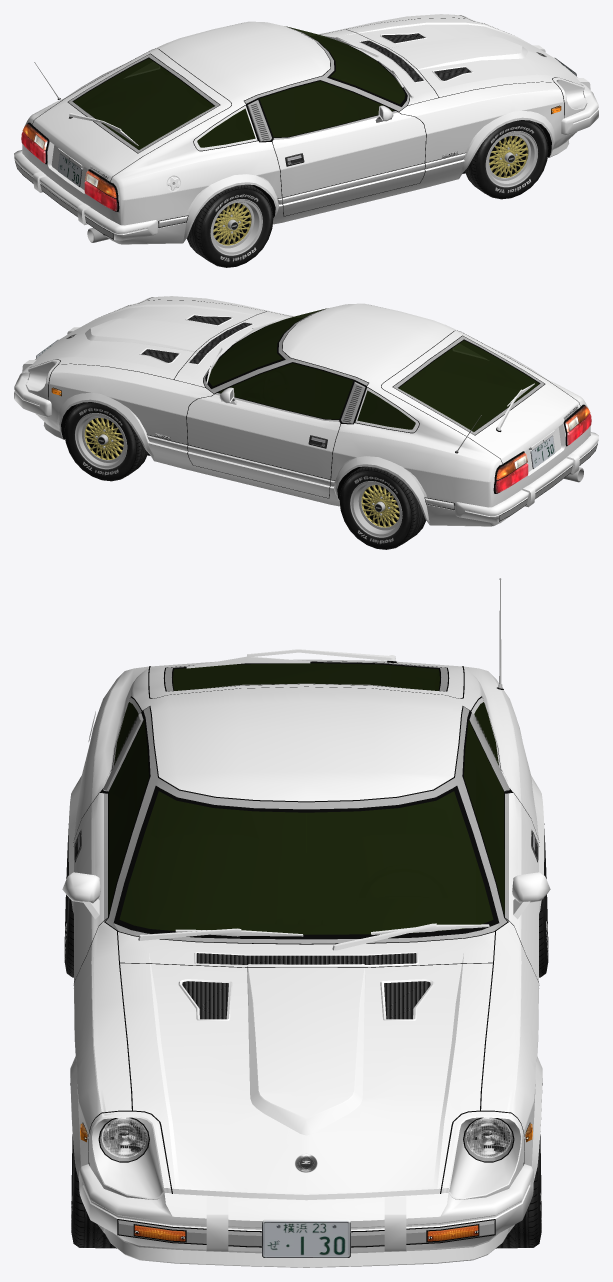
3 renders of one model, top to bottom at view 1: azimuth 30°, elevation 25°; view 2: azimuth 150°, elevation 25°; view 3: azimuth 270°, elevation 25°, orthographic. The views are drawn at different scales.
Visible parts, largest first — view 1: body, spin_RR, spin_FR; view 2: body, spin_RL, spin_FL; view 3: body, spin_FL, spin_FR.
Part boxes in pixels (x1,y1,x2,y2): body: (14, 14, 598, 244); spin_RR: (186, 184, 275, 267); spin_FR: (463, 120, 548, 199); body: (14, 296, 598, 526); spin_RL: (337, 466, 426, 549); spin_FL: (64, 402, 149, 481); body: (62, 578, 550, 1267); spin_FL: (496, 1083, 542, 1248); spin_FR: (70, 1083, 116, 1248).
Bounding box in the file's own units: 4.6 × 1.35 × 1.91.
21 materials, 10 textured.
